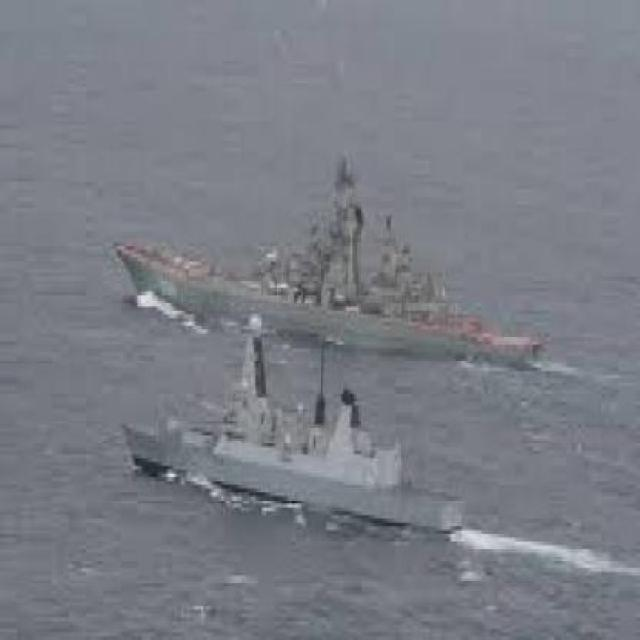warship2: (89, 99, 575, 361), (99, 303, 520, 534)
